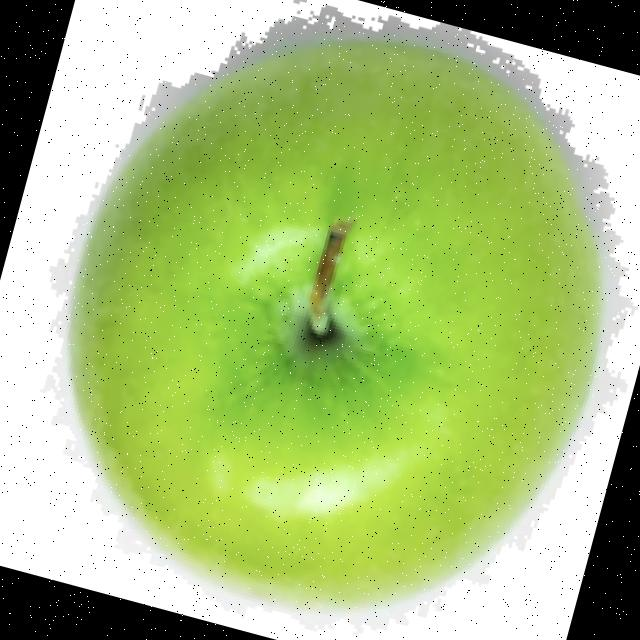apple: (35, 0, 638, 638)
